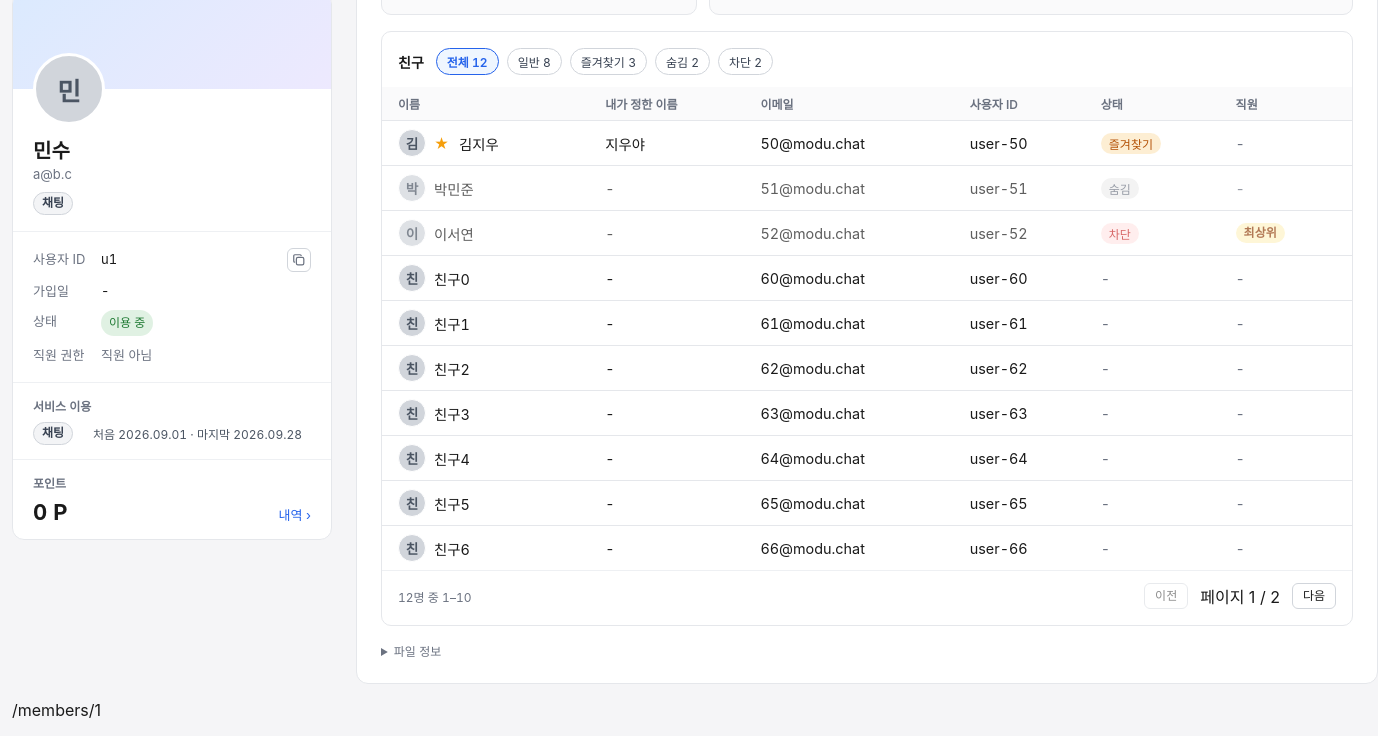
MemberDetailPage › 채팅 tab friends › shows counts on the chips and the KPI, and sends the filter and page
(page scrolled)
Check: the text "김지우" is shown, box x1=459 y1=132 x2=499 y2=154
Check: the text "12명 중 1–10" is shown, box x1=398 y1=588 x2=471 y2=605
Click the button "다음" at coordinates (1314, 596), box x1=1292 y1=583 x2=1336 y2=609
(page scrolled)
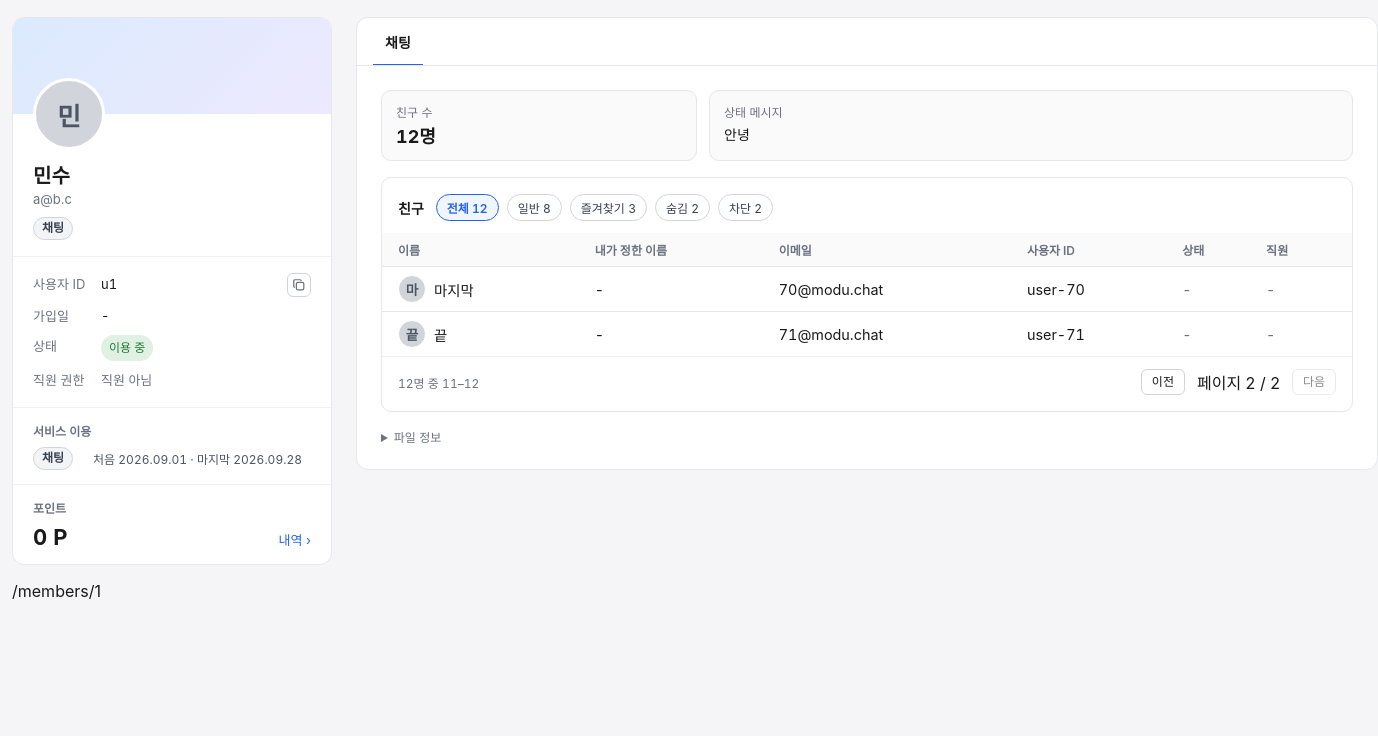
Check: the text "마지막" is shown, box x1=434 y1=278 x2=474 y2=300
Check: the text "12명 중 11–12" is shown, box x1=398 y1=374 x2=479 y2=391
// 칩을 바꾸면 첫 페이지부터.
Click the button "즐겨찾기 3" at coordinates (608, 208), box x1=570 y1=194 x2=647 y2=221
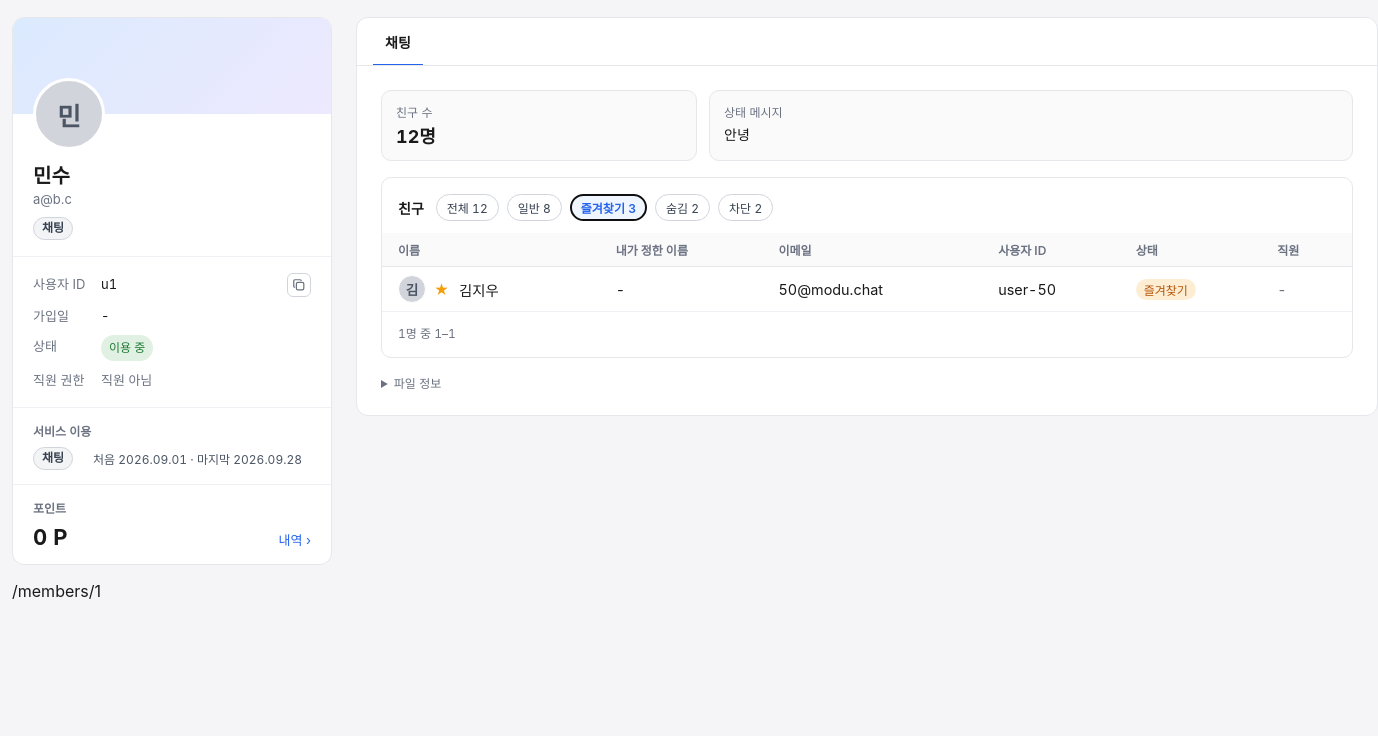
Check: the text "김지우" is shown, box x1=459 y1=278 x2=499 y2=300
Check: the button "다음" is gone
